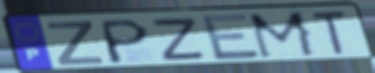E: (198, 12, 264, 63)
M: (246, 9, 320, 60)
P: (101, 17, 152, 66)
T: (309, 10, 351, 57)
Z: (44, 20, 107, 67), (151, 16, 209, 63)
